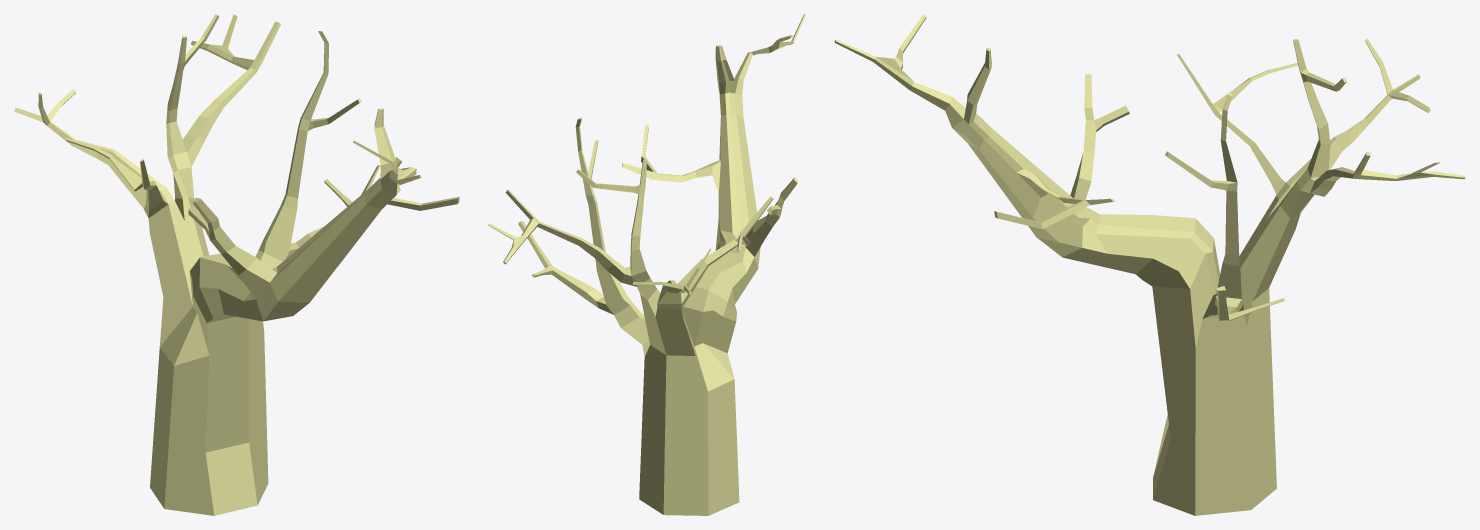
File: BiggTreeA.glb
3 views of the same model, side by side, from view 1: azimuth 30°, elevation 25°; view 2: azimuth 150°, elevation 25°; view 3: azimuth 270°, elevation 25° (orthographic). The views are drawn at different scales.
Parts seen in each view (by area): view 1: Cylinder; view 2: Cylinder; view 3: Cylinder.
Boxes of the visible parts, left/top/right/bottom form: Cylinder: left=14, top=14, right=459, bottom=515; Cylinder: left=488, top=14, right=805, bottom=515; Cylinder: left=834, top=14, right=1465, bottom=515.
Size of the model in its own units: 2.26 by 3.22 by 3.83.
